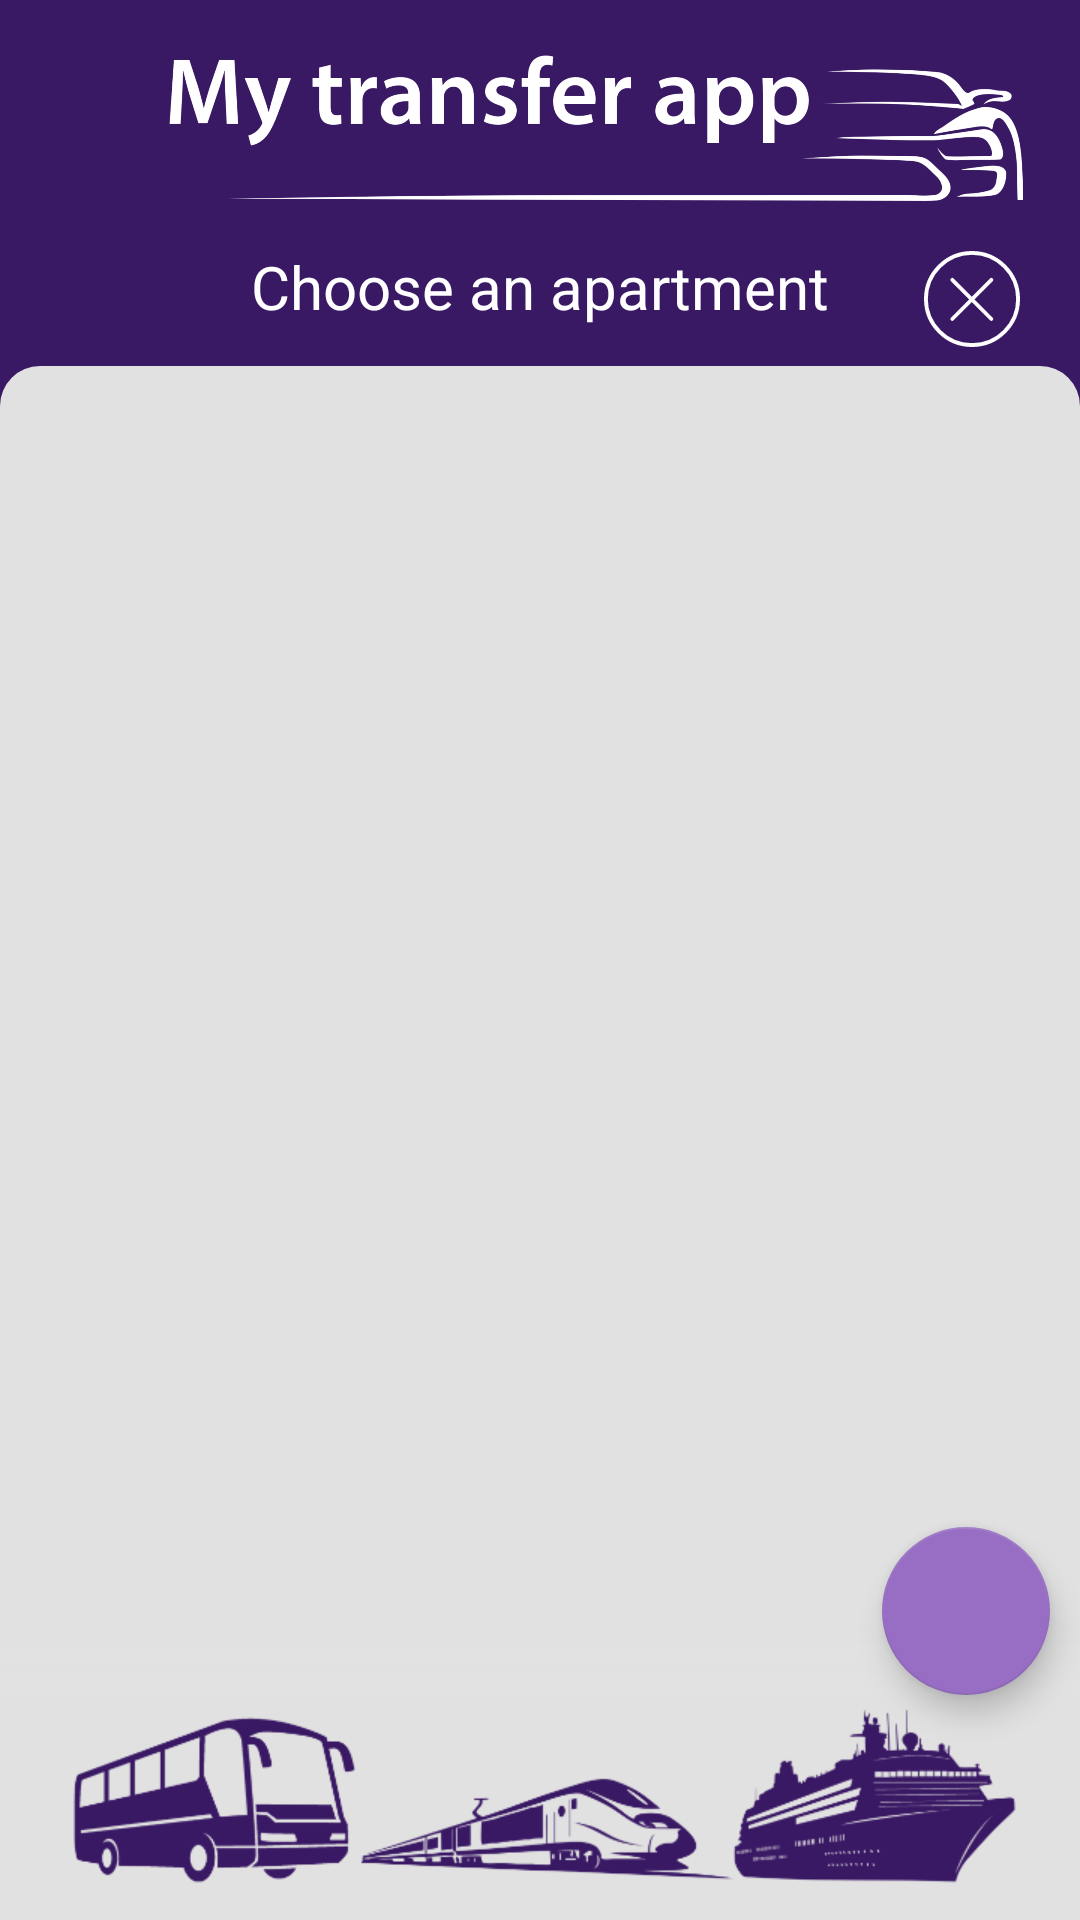

Icon click points for this 1080*1920 phone screenshot, format [x,y]:
close: [972,299]
